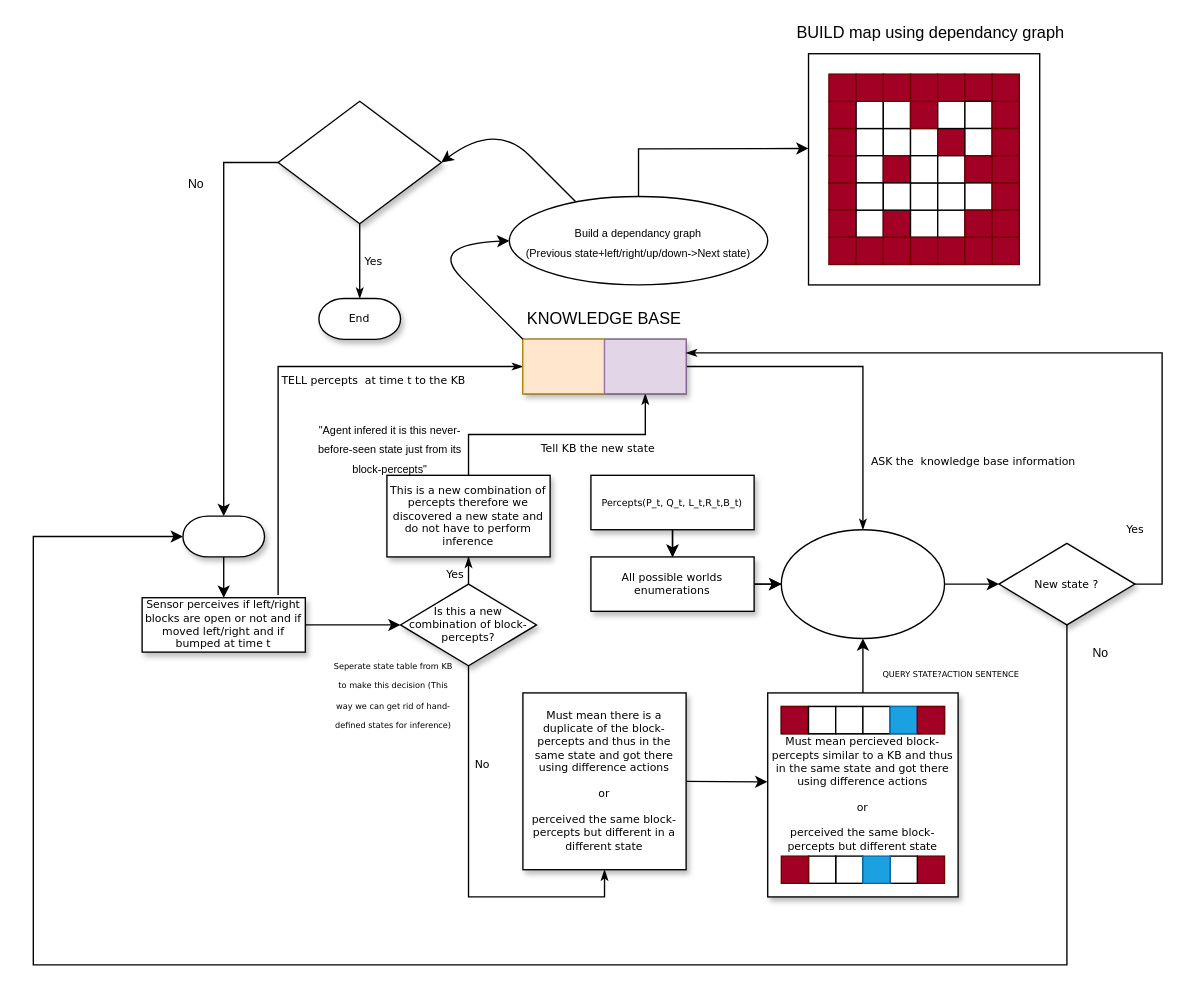
Some shapes in this 1195 by 1000 pixel diagram are drawn without their labels. Here are the shapes that lost their labels. From the top down, the centre of each, then its label:
the point at 360,164: Does the program user wish to stop using the program?
the point at 563,366: Percepts at time t
the point at 644,366: State definitions
the point at 224,537: Start
the point at 862,583: Inference
